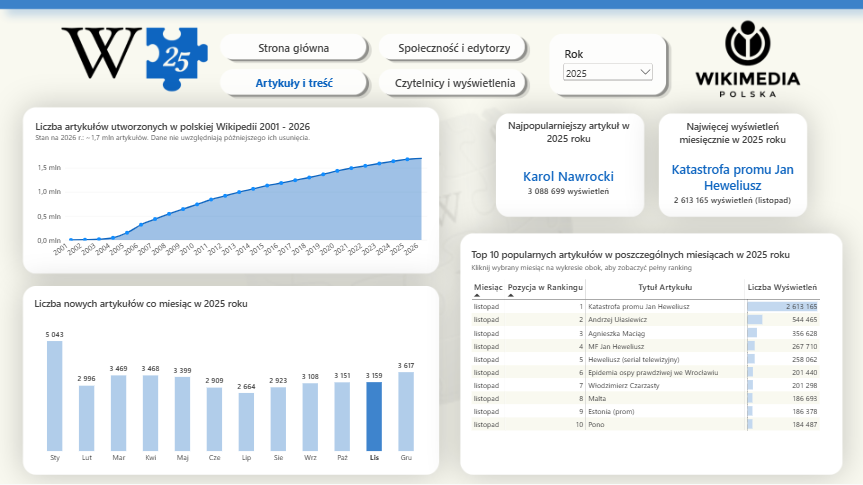

Layout of this report page (visuals, bound fields, positions):
{"tool":"powerbi","page":{"name":"2_Artykuły i treść","canvas":[1920,1080],"ordinal":1},"visuals":[{"type":"actionButton","box":[539.1,155.5,227.3,57.8],"z":0},{"type":"actionButton","box":[845.3,74.3,329.8,65.5],"z":1000},{"type":"actionButton","box":[846.9,155.5,329.7,57.8],"z":2000},{"type":"actionButton","box":[513.3,77.3,278.6,58.3],"z":3000},{"type":"clusteredColumnChart","fields":{"Category":["DimDate.Miesiąc Skrót"],"Y":["Sum(2_nowe_artykuly_clean.Liczba Nowych Artykułów)"]},"box":[60.5,644.7,905.3,403.9],"z":4000},{"type":"areaChart","title":"Liczba artykułów utworzonych w polskiej Wikipedii 2001 - 2026","fields":{"Category":["DimDate.Rok"],"Y":["_MEASURES.Suma Skumulowana Artykulow mln"]},"box":[61.8,250,902.6,351.3],"z":5000},{"type":"tableEx","fields":{"Values":["DimDate.Miesiąc","5_top_1000_artykulow_clean.Pozycja w Rankingu","5_top_1000_artykulow_clean.Tytuł Artykułu","5_top_1000_artykulow_clean.Liczba Wyświetleń"]},"box":[1030.3,535.7,835.9,499],"z":6000},{"type":"cardVisual","fields":{"Data":["_MEASURES.Top Artykul Nazwa Rok"]},"box":[1109.5,265.1,309.5,207.9],"z":7000},{"type":"cardVisual","fields":{"Data":["_MEASURES.Największy Szczyt Miesięczny"]},"box":[1473.7,265.8,309.2,209.2],"z":8000},{"type":"slicer","title":"Rok","fields":{"Values":["DimDate.Rok"]},"box":[1240,93.3,208.9,86.7],"z":9000}]}

Visuals, with their boxes in screenshot pixels (x1, y1, x2, y2), scaled from the page's 1920x1080 canvas onto the 863x485 screenshot:
actionButton: locate(242, 70, 344, 96)
actionButton: locate(380, 33, 528, 63)
actionButton: locate(381, 70, 529, 96)
actionButton: locate(231, 35, 356, 61)
clusteredColumnChart - DimDate.Miesiąc Skrót x Sum(2_nowe_artykuly_clean.Liczba Nowych Artykułów): locate(27, 290, 434, 471)
"Liczba artykułów utworzonych w polskiej Wikipedii 2001 - 2026" areaChart: locate(28, 112, 433, 270)
tableEx - DimDate.Miesiąc x 5_top_1000_artykulow_clean.Pozycja w Rankingu: locate(463, 241, 839, 465)
cardVisual - _MEASURES.Top Artykul Nazwa Rok: locate(499, 119, 638, 212)
cardVisual - _MEASURES.Największy Szczyt Miesięczny: locate(662, 119, 801, 213)
"Rok" slicer: locate(557, 42, 651, 81)
